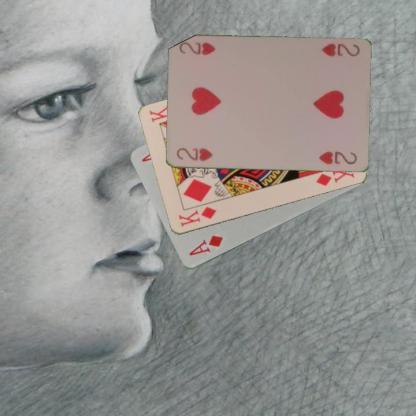2h: (318, 40, 361, 58), (174, 145, 214, 162)
Ad: (186, 233, 225, 258)
Kd: (176, 204, 217, 228)
